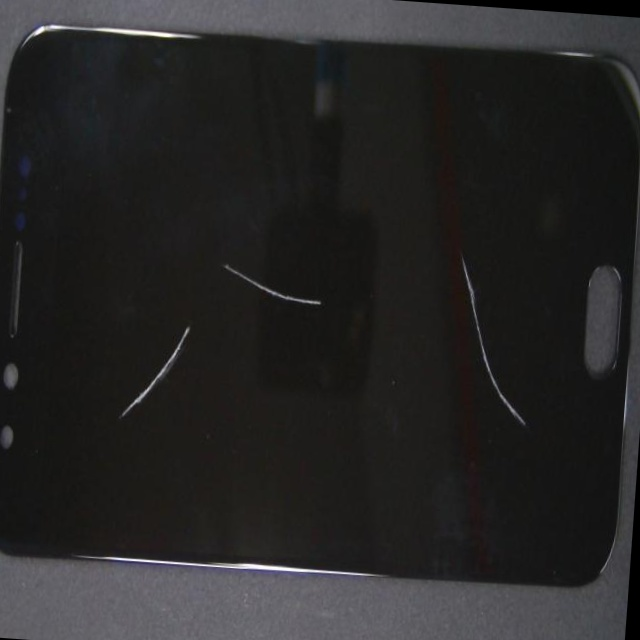scratch: (287, 293, 640, 544), (88, 160, 323, 488), (201, 156, 467, 427)
